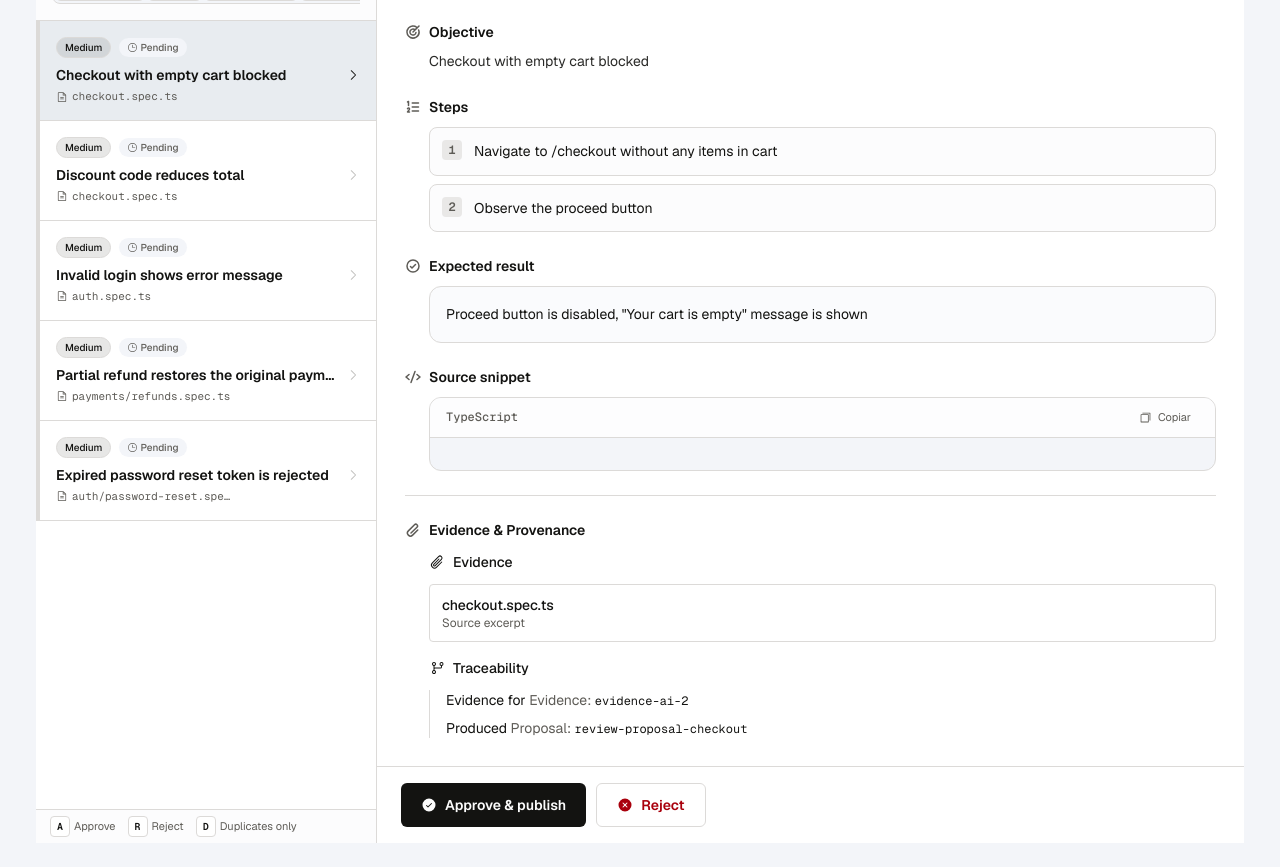
ReviewInboxPage › shows who decided and when on an invalid-transition conflict
(page scrolled)
Click the button "Approve & publish": coordinates (494, 805) [401, 783, 586, 827]
(page scrolled)
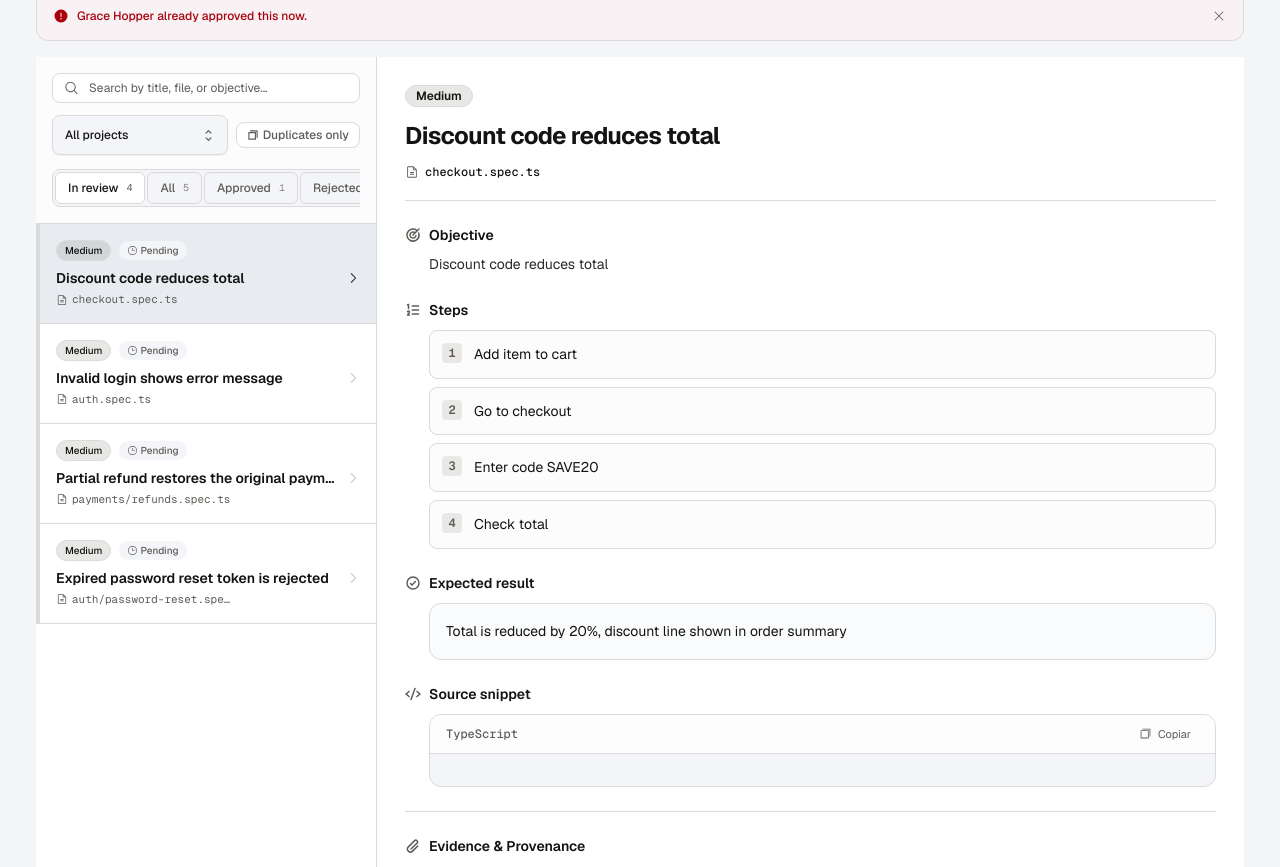
Check: the message shows "Grace Hopper already approved", box [77, 8, 307, 24]
